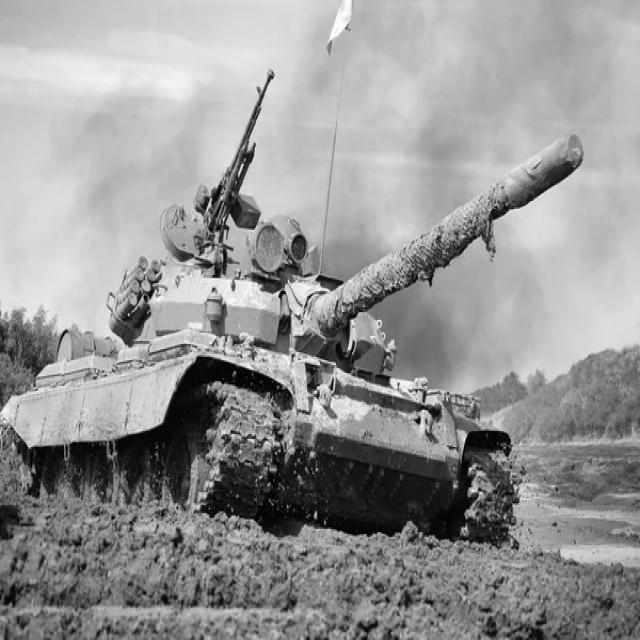Tank: (11, 78, 592, 524)
